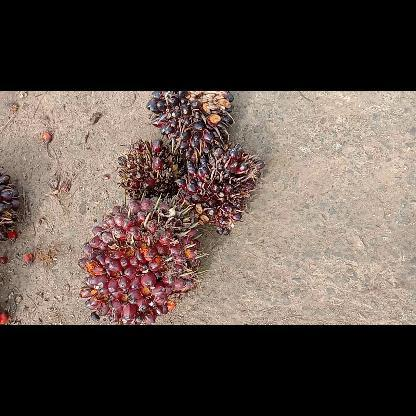TBS abnormal: (184, 146, 264, 235), (146, 90, 234, 152), (118, 138, 180, 200)
TBS masak: (76, 194, 202, 324)
